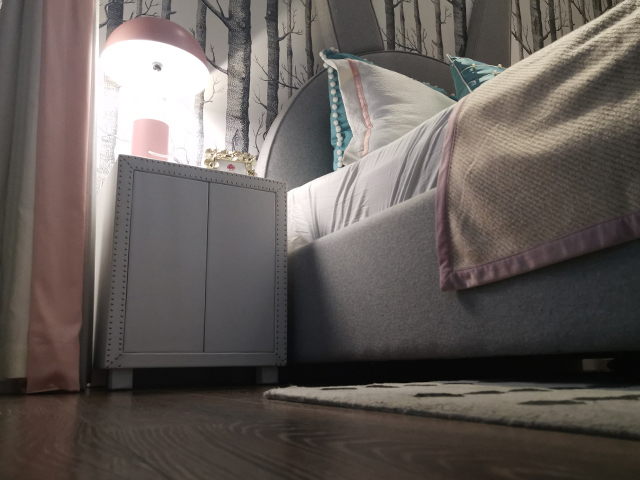bed: (253, 1, 640, 382)
cabinet: (92, 152, 289, 394)
carpet: (259, 381, 640, 448)
curtain: (1, 1, 101, 397)
